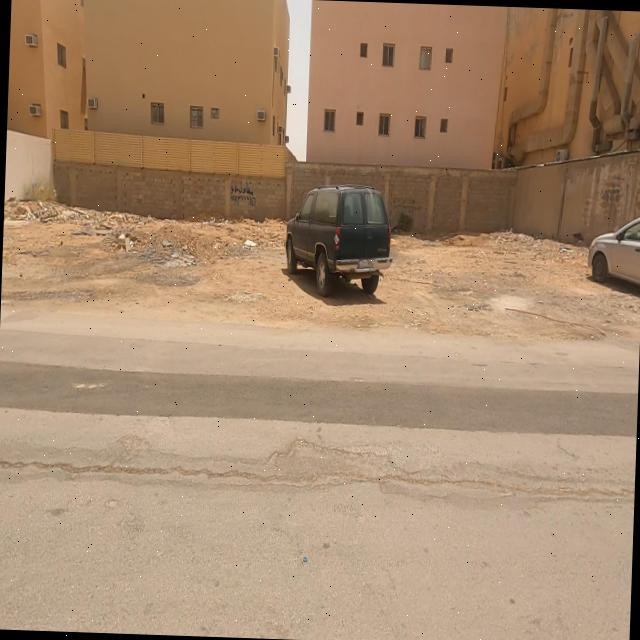Graffiti: (230, 181, 256, 208), (392, 195, 423, 214)
